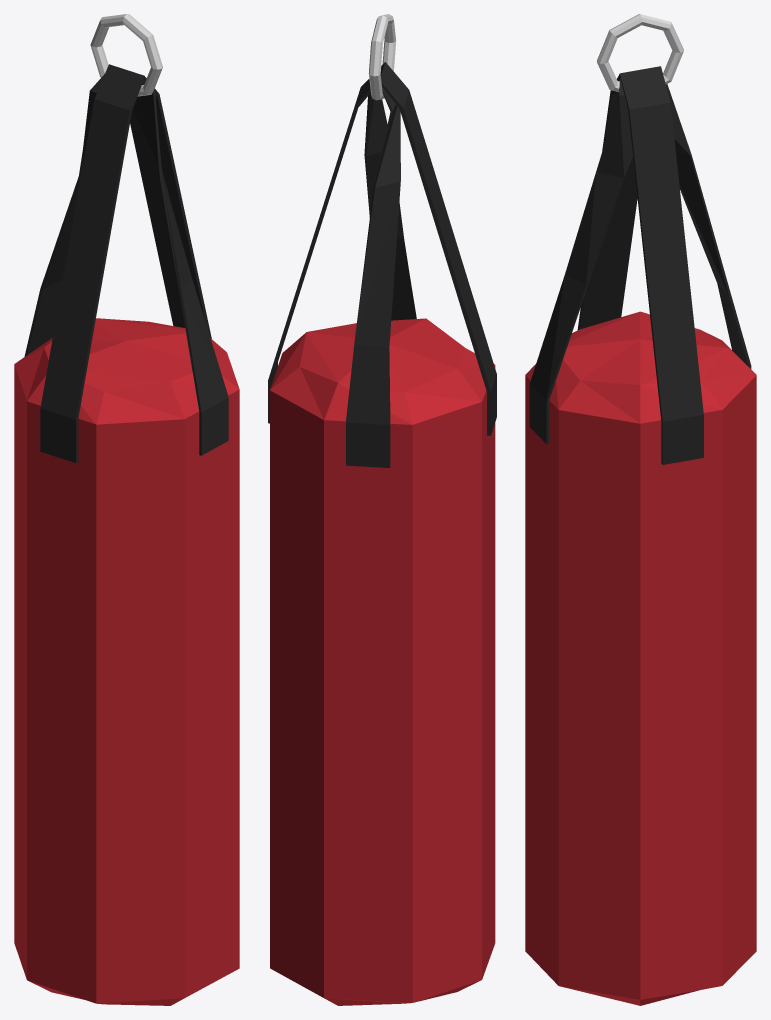
Rendered from boxingbag.gltf.
3 renders of one model, left to right at view 1: azimuth 30°, elevation 25°; view 2: azimuth 150°, elevation 25°; view 3: azimuth 270°, elevation 25°, orthographic.
Visible parts, largest first — view 1: Object_6, Object_5, Object_4; view 2: Object_6, Object_5, Object_4; view 3: Object_6, Object_5, Object_4.
Boxes of the visible parts, left/top/right/bottom form: Object_6: left=14, top=318, right=239, bottom=1005; Object_5: left=24, top=64, right=228, bottom=462; Object_4: left=90, top=14, right=162, bottom=96; Object_6: left=270, top=318, right=495, bottom=1005; Object_5: left=268, top=62, right=496, bottom=467; Object_4: left=368, top=14, right=396, bottom=100; Object_6: left=525, top=311, right=756, bottom=1005; Object_5: left=529, top=66, right=751, bottom=464; Object_4: left=597, top=14, right=683, bottom=91.
Size of the model in its own units: 1.03 by 4.74 by 1.03.
